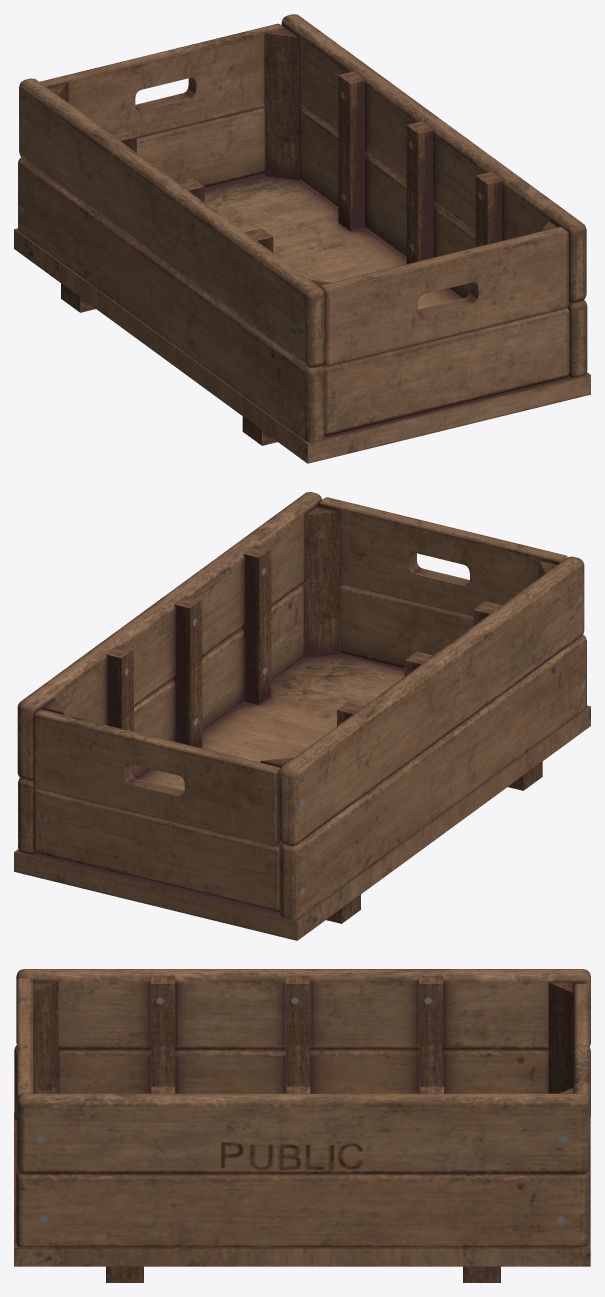
The model's file is wooden_crate.glb.
3 views of the same model, one above another, from view 1: azimuth 30°, elevation 25°; view 2: azimuth 150°, elevation 25°; view 3: azimuth 270°, elevation 25° (orthographic).
Visible parts, largest first — view 1: Object_2; view 2: Object_2; view 3: Object_2.
Boxes of the visible parts, <box> form: Object_2: <box>14,14,590,463</box>; Object_2: <box>14,492,590,940</box>; Object_2: <box>14,969,590,1282</box>.
Bounding box in the file's own units: 3.86 × 2.43 × 6.94.
Materials: 1 (1 with a texture image).
